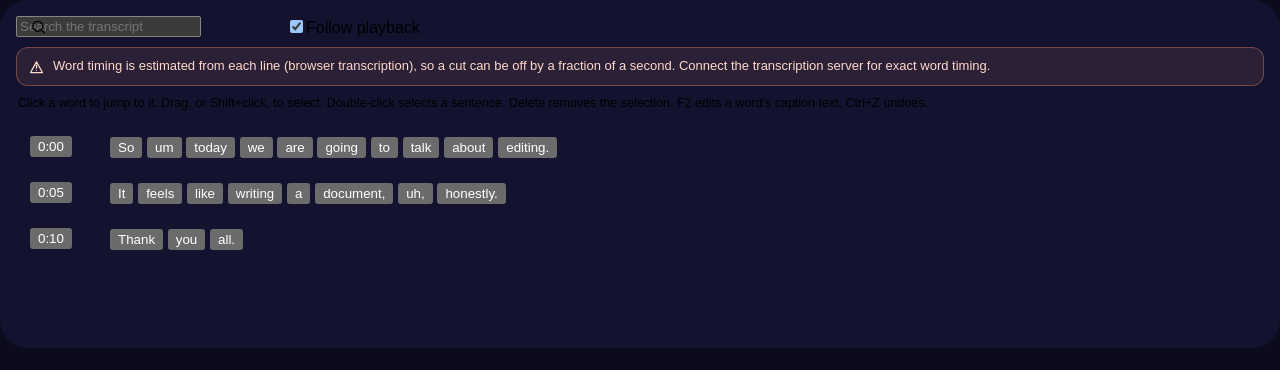
Feature 1: transcript editing › searches the transcript and counts matches
Type "thank" into the search field labelled "Search the transcript". click: coordinates (108, 26)
box: [16,16,201,37]
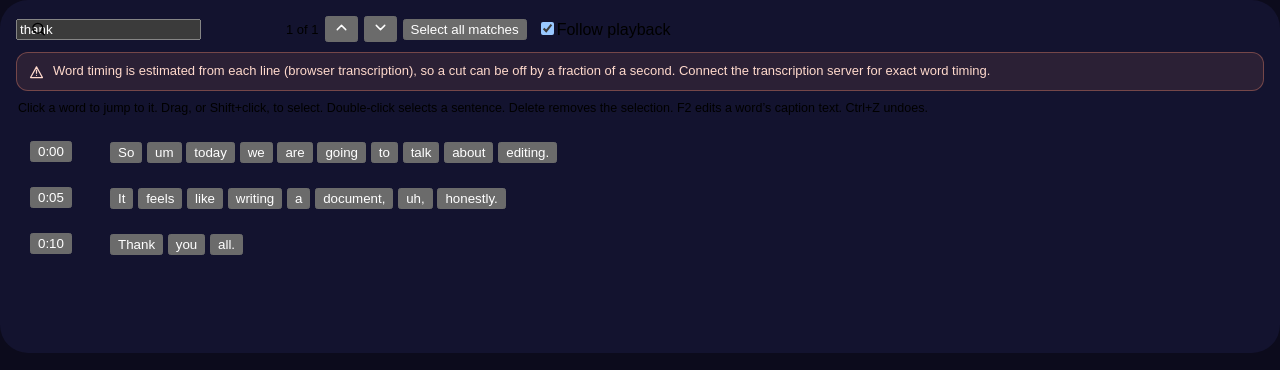
Now the text "1 of 1" is shown, box [286,22,318,36]
Replace the text in the search field named "Search the transcript" with "zzzz". click: coordinates (108, 29)
box: [16,18,201,40]
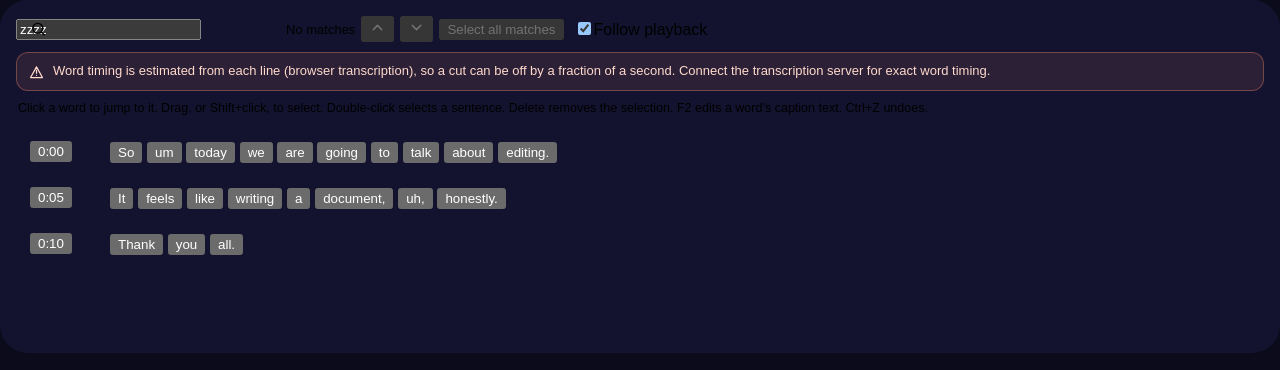
Now the text "No matches" is shown, box [286,22,355,36]
